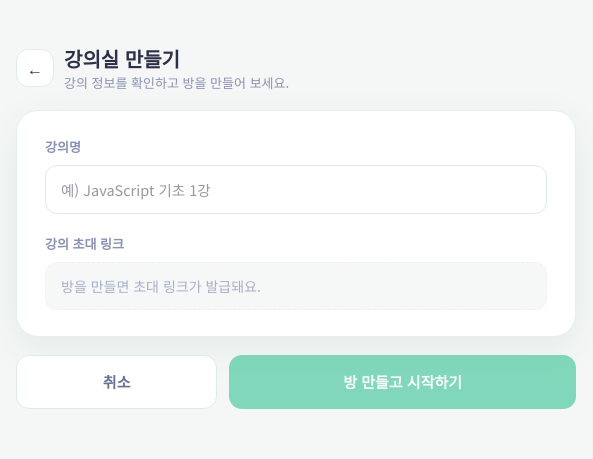
Test: CreateSetupScreen › 이미 진행 중인 수업이 있으면 원인을 알려주고 이동하지 않는다
Step 1. Type "테스트 수업" into the field labelled "강의명" → (296, 190), box [45,165,547,214]
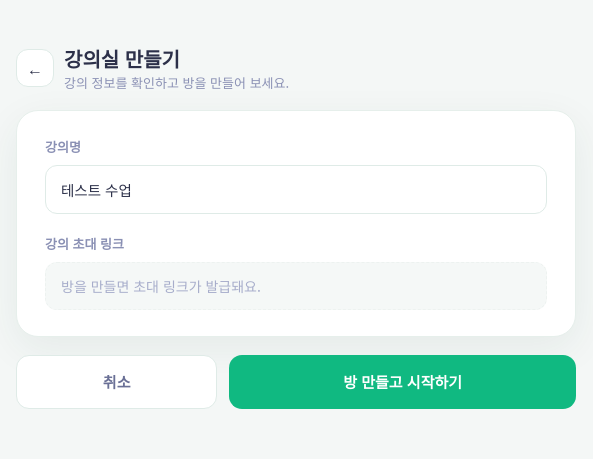
Step 2. Click the button "방 만들고 시작하기" → (403, 382), box [229,355,576,409]
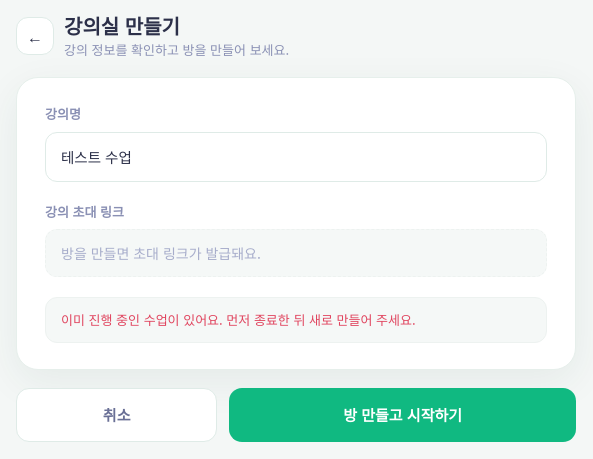
Check: the message shows "이미 진행 중인 수업이 있어요", box [61,310,416,329]
